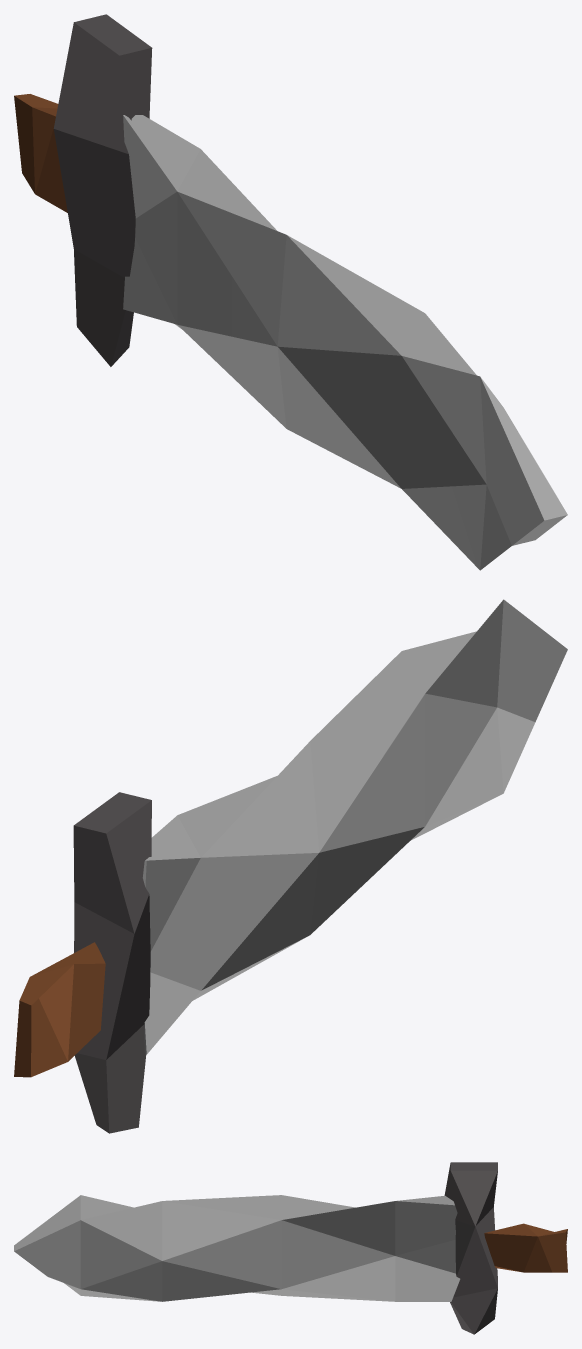
Rendered from arme_epeeAcier.fbx.
The picture shows the model from 3 angles, top to bottom: view 1: azimuth 30°, elevation 25°; view 2: azimuth 150°, elevation 25°; view 3: azimuth 270°, elevation 25°; orthographic projection. The views are drawn at different scales.
Visible parts, largest first — view 1: Box042; view 2: Box042; view 3: Box042.
Part boxes in pixels (bbox=[...]): Box042: bbox=[14, 14, 567, 570]; Box042: bbox=[14, 599, 567, 1133]; Box042: bbox=[14, 1162, 567, 1334].
Size of the model in its own units: 9.56 by 37.52 by 113.
